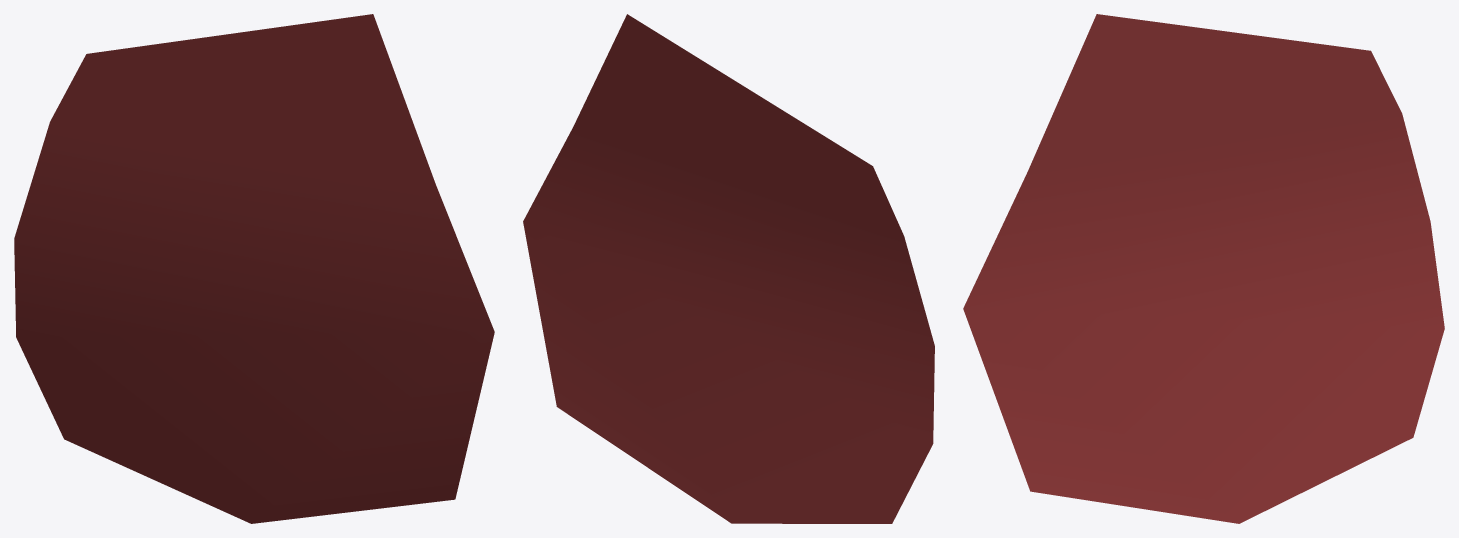
Rendered from zygomaticus-major-muscle-or.glb.
3 views of the same model, side by side, from view 1: azimuth 30°, elevation 25°; view 2: azimuth 210°, elevation 25°; view 3: azimuth 270°, elevation 25° (orthographic). The views are drawn at different scales.
Parts seen in each view (by area): view 1: Zygomaticus major muscle.or; view 2: Zygomaticus major muscle.or; view 3: Zygomaticus major muscle.or.
Part boxes in pixels (<box>): Zygomaticus major muscle.or: <box>14,14,494,523</box>; Zygomaticus major muscle.or: <box>523,14,934,523</box>; Zygomaticus major muscle.or: <box>963,14,1444,523</box>.
Size of the model in its own units: 0.00584 by 0.0129 by 0.0106.
